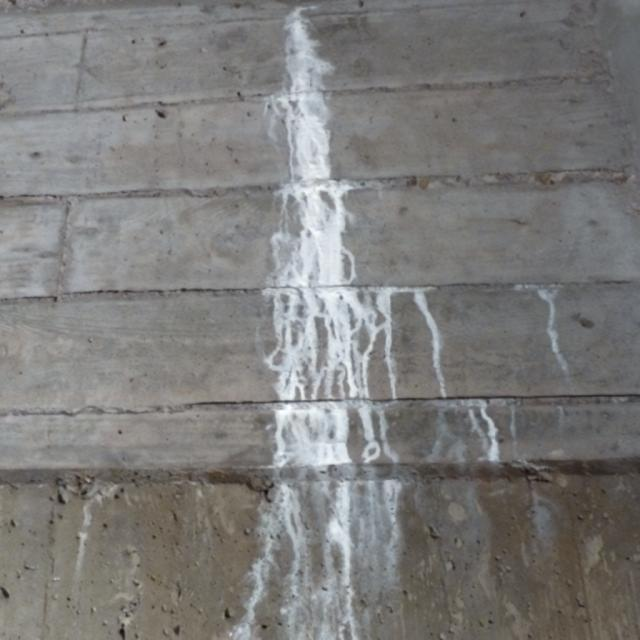D01: (262, 6, 417, 405), (410, 290, 443, 392), (534, 286, 567, 372)
